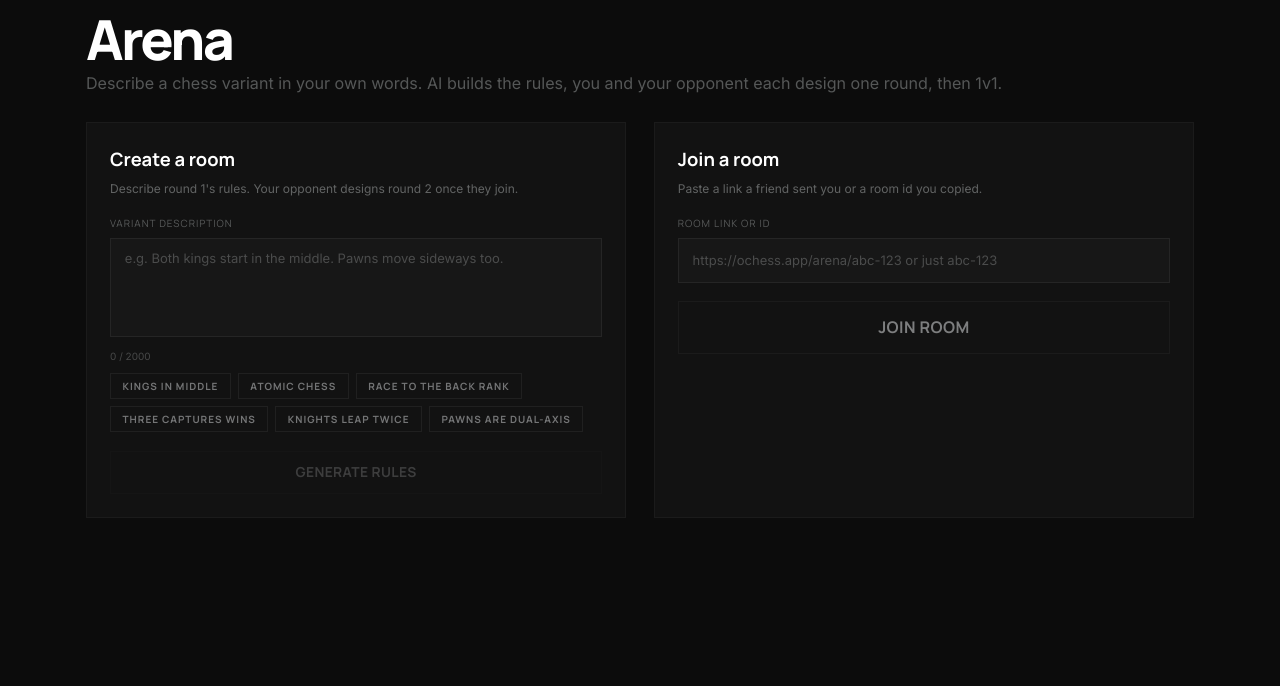
it: ArenaPage › renders friendly validator error feedback (with disclosure for raw details)
Replace the text in the text box with placeholder "Both kings start in the middle" with "test prompt for variants": (356, 288) [110,238,602,337]
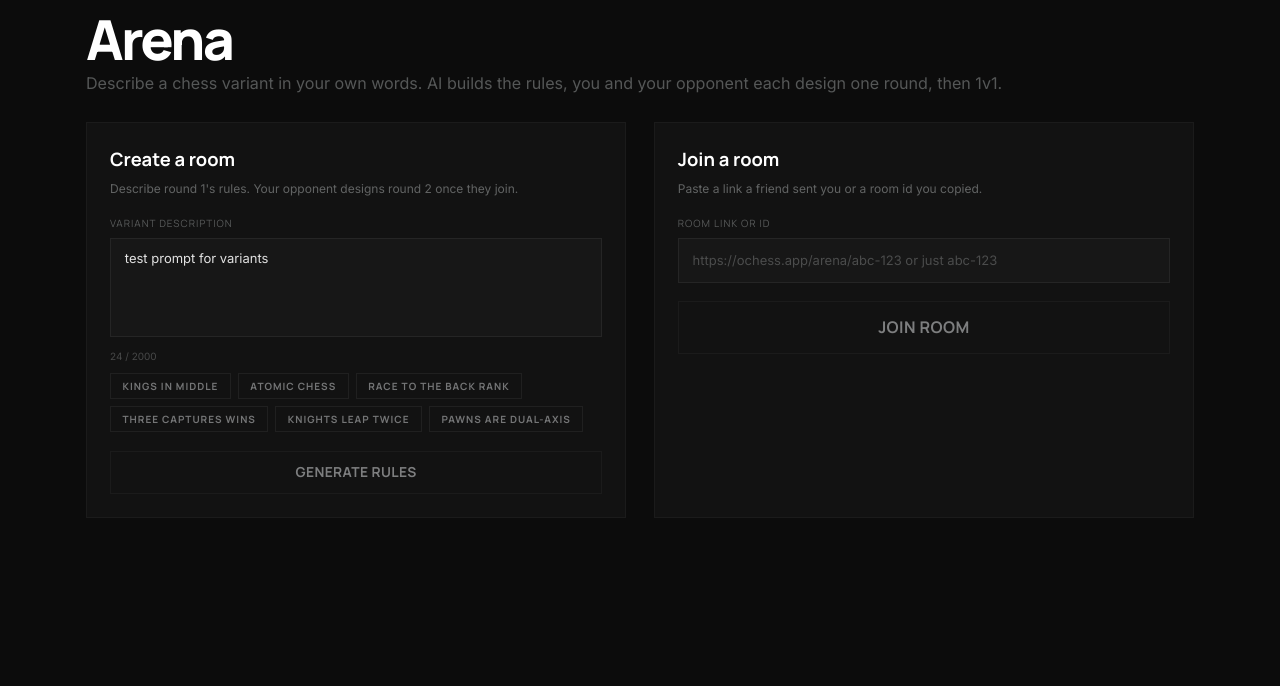
Click the button "Generate rules": (356, 472) [110,451,602,494]
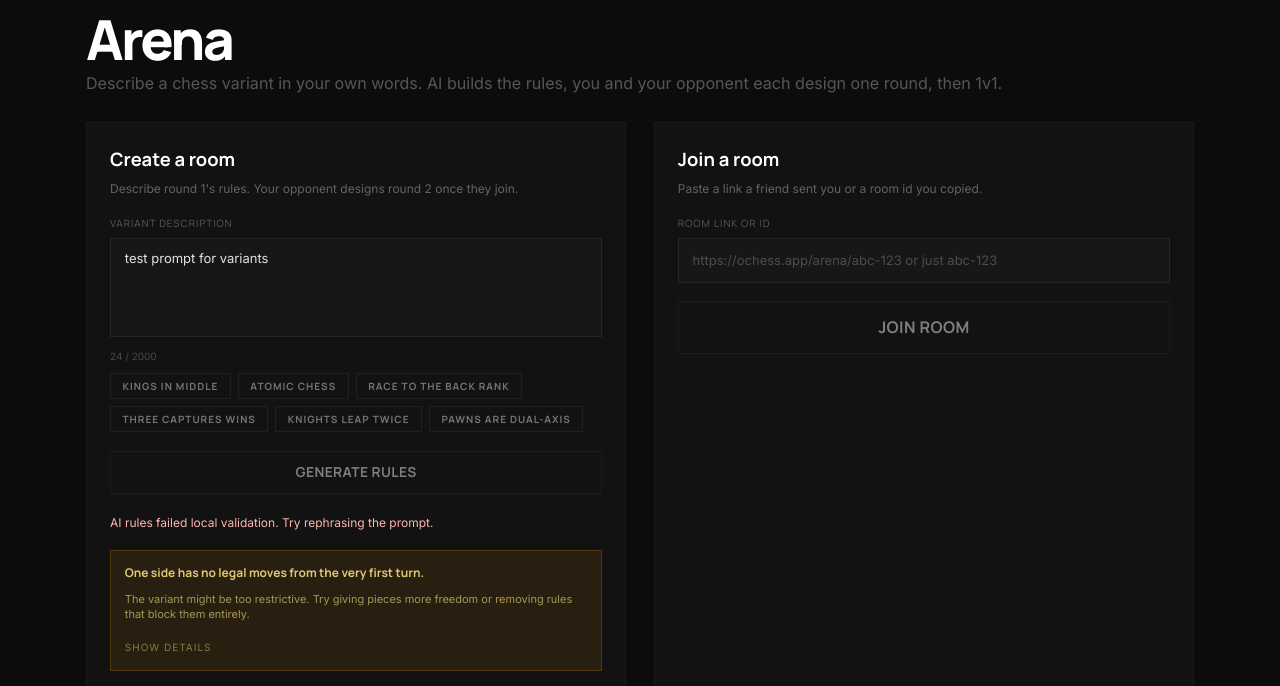
Expected: the text "race_to_squares squares array is empty" is not shown
Expected: the text "One side has no legal moves from the very first turn." is shown, [125,564,424,581]
Expected: the text "restrictive" is shown, [125,592,572,621]
Click the button "Show details": (168, 648) [125,640,212,655]
(page scrolled)
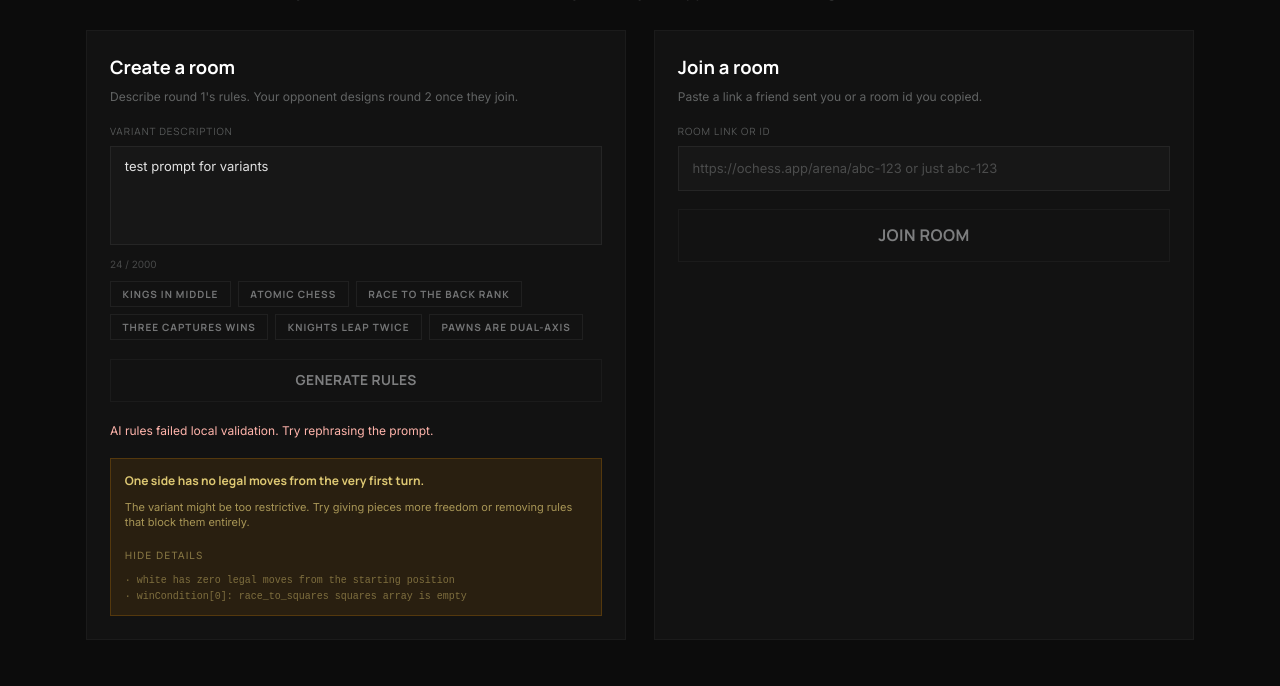
Expected: the list item "· winCondition[0]: race_to_squares squares array is empty" is shown, [125,591,467,602]
